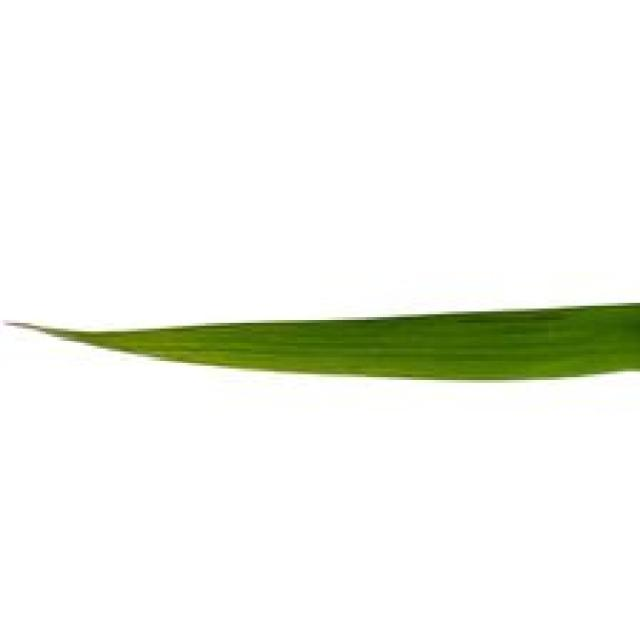Rice___Healthy_Rice_Plant: (5, 304, 637, 380)
